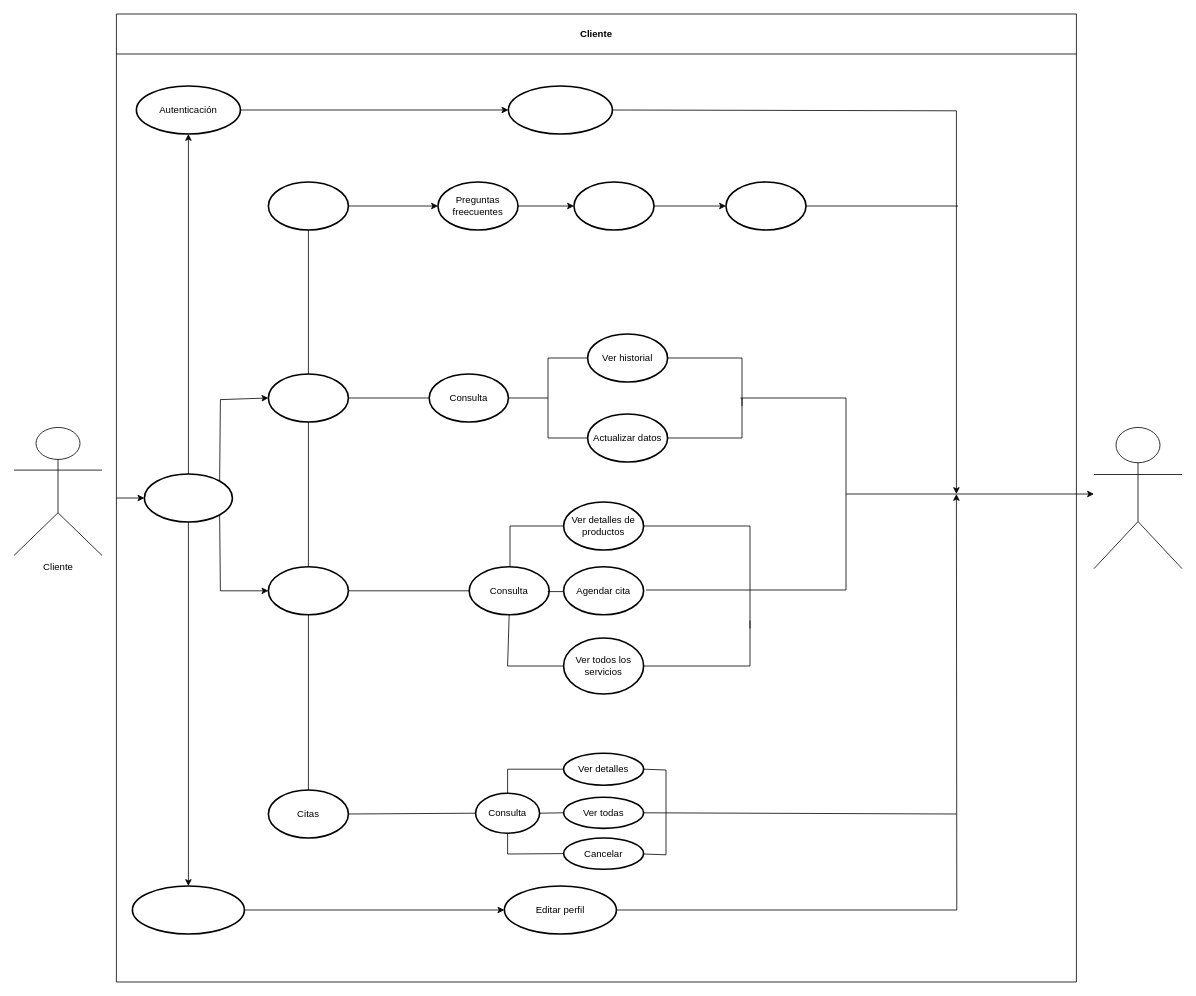
Image size: 1196x996. Some labels were removed from this diagram. Here are the shapes that lost their labels. From the top down, the centre of each, then its label:
At point 560,109: "Verificación Cliente".
At point 308,205: "Ayuda".
At point 613,205: "contacto".
At point 765,205: "redes sociales".
At point 308,397: "Mascotas".
At point 188,497: "Usuario".
At point 1137,498: "Sistema".
At point 308,590: "Servicios".
At point 188,909: "Perfil".
